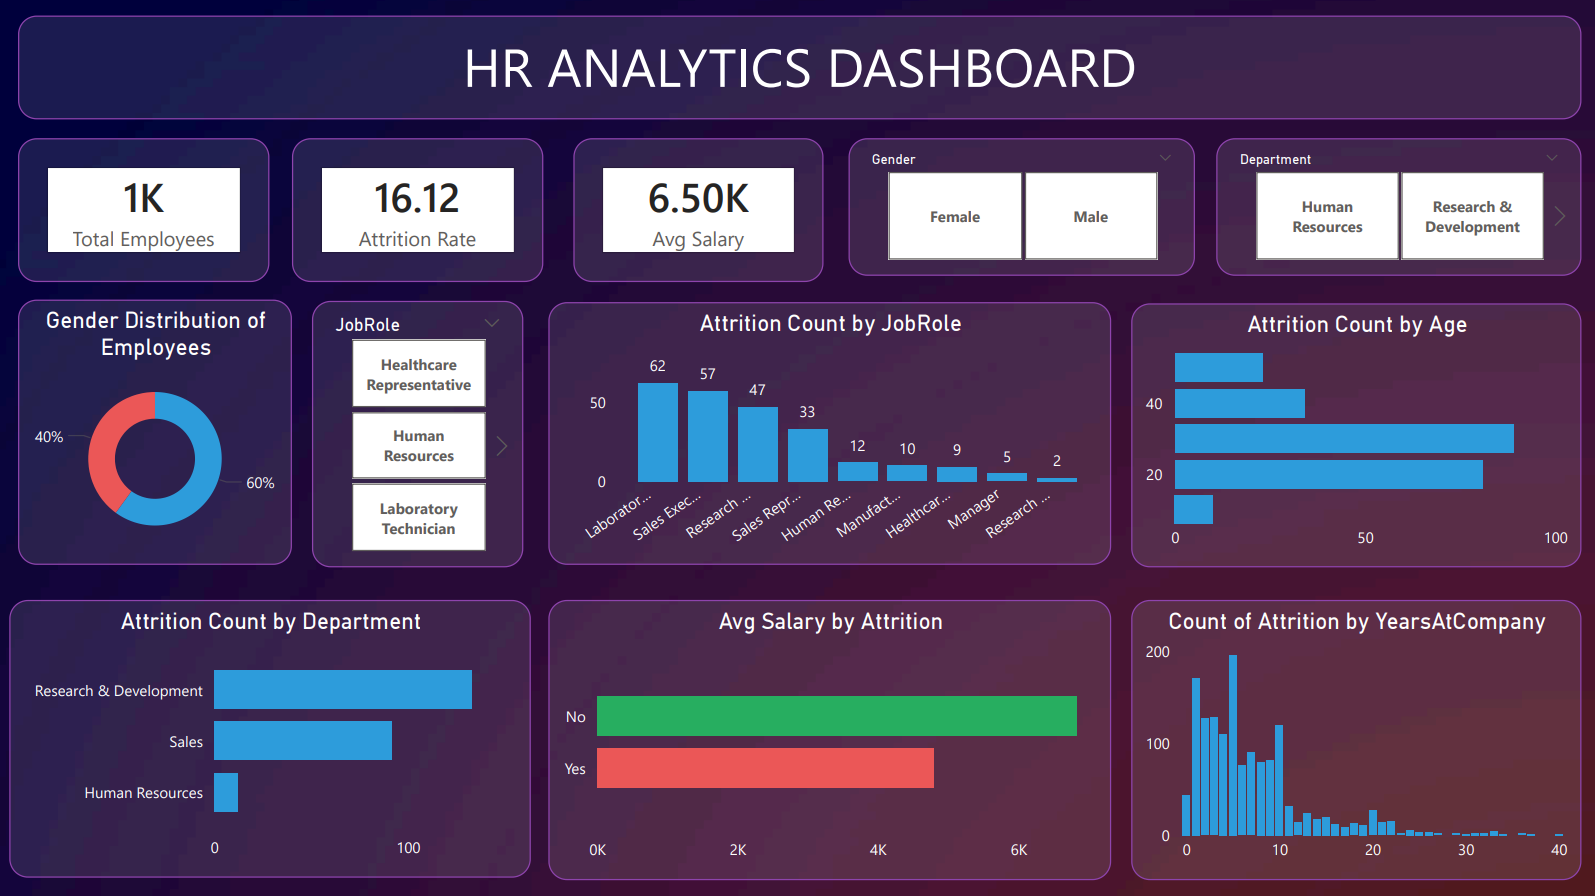

The page's visual inventory and layout, read from the dashboard file:
{"tool":"powerbi","page":{"name":"Page 1","canvas":[1280,720],"ordinal":0},"visuals":[{"type":"cardVisual","fields":{"Data":["Employee.Total Employees"]},"box":[16.3,111.6,201.2,115.1],"z":0},{"type":"cardVisual","fields":{"Data":["Employee.Attrition Rate"]},"box":[234.9,111.6,201.2,115.1],"z":1000},{"type":"cardVisual","fields":{"Data":["Employee.Avg Salary"]},"box":[460.5,111.6,200,115.1],"z":2000},{"type":"clusteredBarChart","fields":{"Y":["Employee.Attrition Count"],"Category":["Employee.Department"]},"box":[9.3,481.4,416.3,222.1],"z":3000},{"type":"clusteredColumnChart","fields":{"Category":["Employee.JobRole"],"Y":["Employee.Attrition Count"]},"box":[439.5,243,450,210.5],"z":4000},{"type":"barChart","fields":{"Y":["Employee.Attrition Count"],"Category":["Employee.Age (bins)"]},"box":[905.8,244.2,360.5,210.5],"z":5000},{"type":"barChart","fields":{"Category":["Employee.Attrition"],"Y":["Employee.Avg Salary"]},"box":[439.5,481.4,450,223.3],"z":6000},{"type":"clusteredColumnChart","fields":{"Category":["Employee.YearsAtCompany"],"Y":["CountNonNull(Employee.Attrition)"]},"box":[905.8,481.4,360.5,223.3],"z":7000},{"type":"donutChart","title":"Gender Distribution of Employees","fields":{"Category":["Employee.Gender"],"Y":["Sum(Employee.EmployeeCount)"]},"box":[16.3,240.7,218.6,212.8],"z":8000},{"type":"slicer","fields":{"Values":["Employee.Department"]},"box":[974.4,111.6,291.9,110.5],"z":9000},{"type":"slicer","fields":{"Values":["Employee.Gender"]},"box":[680.2,111.6,276.7,110.5],"z":10000},{"type":"slicer","fields":{"Values":["Employee.JobRole"]},"box":[251.2,241.9,168.6,212.8],"z":11000},{"type":"textbox","box":[16.3,14,1250,82.6],"z":12000}]}

Visuals, with their boxes in screenshot pixels (x1, y1, x2, y2), scaled from the page's 1280x720 canvas onto the 1595x896 screenshot:
cardVisual - Employee.Total Employees: crop(20, 139, 271, 282)
cardVisual - Employee.Attrition Rate: crop(293, 139, 543, 282)
cardVisual - Employee.Avg Salary: crop(574, 139, 823, 282)
clusteredBarChart - Employee.Attrition Count x Employee.Department: crop(12, 599, 530, 875)
clusteredColumnChart - Employee.JobRole x Employee.Attrition Count: crop(548, 302, 1108, 564)
barChart - Employee.Attrition Count x Employee.Age (bins): crop(1129, 304, 1578, 566)
barChart - Employee.Attrition x Employee.Avg Salary: crop(548, 599, 1108, 877)
clusteredColumnChart - Employee.YearsAtCompany x CountNonNull(Employee.Attrition): crop(1129, 599, 1578, 877)
"Gender Distribution of Employees" donutChart: crop(20, 300, 293, 564)
slicer - Employee.Department: crop(1214, 139, 1578, 276)
slicer - Employee.Gender: crop(848, 139, 1192, 276)
slicer - Employee.JobRole: crop(313, 301, 523, 566)
textbox: crop(20, 17, 1578, 120)
